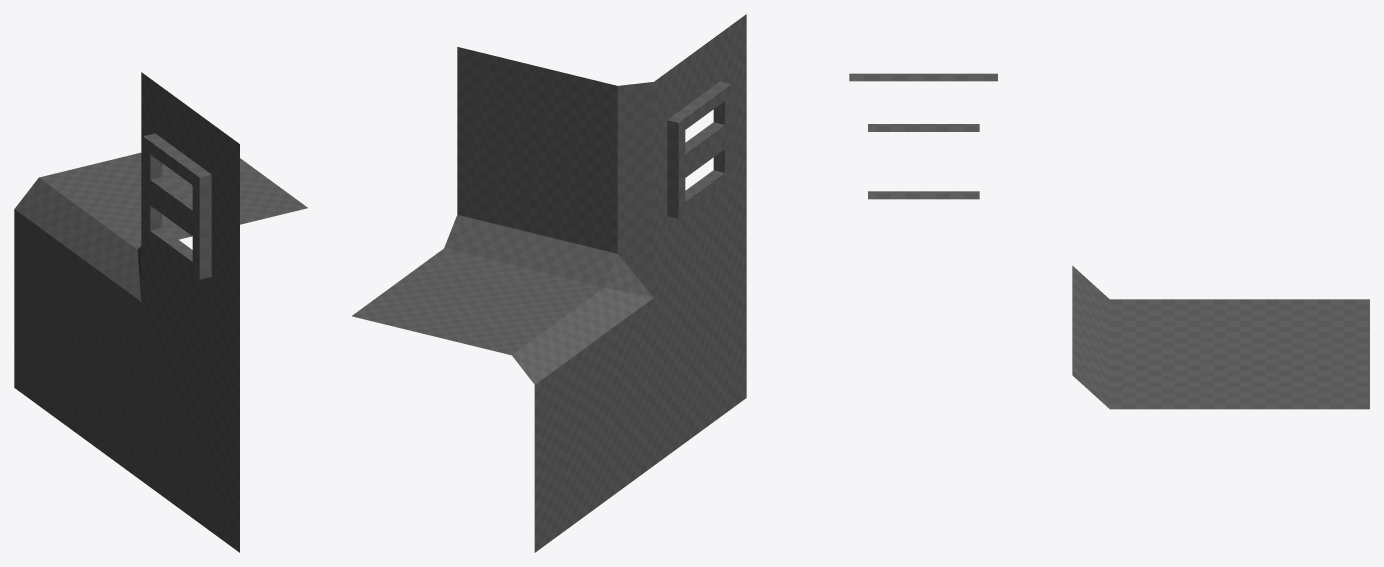
The picture shows the model from 3 angles, left to right: view 1: azimuth 30°, elevation 25°; view 2: azimuth 150°, elevation 25°; view 3: azimuth 270°, elevation 25°; orthographic projection. The views are drawn at different scales.
Visible parts, largest first — view 1: CubeUpBackLeftV1; view 2: CubeUpBackLeftV1; view 3: CubeUpBackLeftV1.
Boxes of the visible parts, x1=… form: CubeUpBackLeftV1: x1=14, y1=72, x2=307, y2=552; CubeUpBackLeftV1: x1=352, y1=14, x2=746, y2=552; CubeUpBackLeftV1: x1=849, y1=73, x2=1369, y2=409.
Size of the model in its own units: 2.12 by 4 by 4.
Materials: 1 (1 with a texture image).
